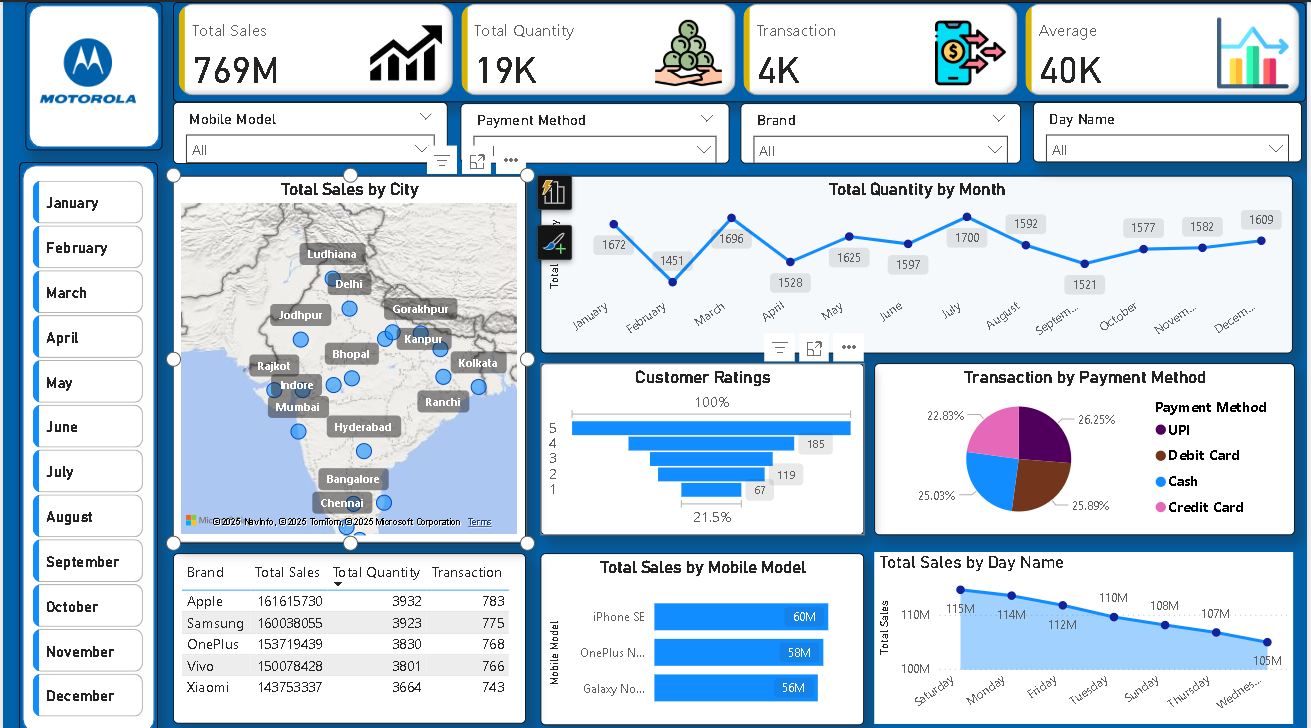

This screenshot's page, from the dashboard's own definition file:
{"tool":"powerbi","page":{"name":"Page 1","canvas":[1280,720],"ordinal":0},"visuals":[{"type":"image","box":[0,0,203.4,145.7],"z":0},{"type":"shape","box":[21.6,0,134.2,145.7],"z":1000},{"type":"image","box":[0,0,167.4,135.6],"z":2000},{"type":"shape","box":[15.9,157.3,135.6,562.7],"z":3000},{"type":"advancedSlicerVisual","fields":{"Values":["Sales_data.Date.Variation.Date Hierarchy.Month"]},"box":[24.5,158.3,117.8,537.4],"z":4000},{"type":"cardVisual","fields":{"Data":["Sales_data.Total Sales","Sales_data.Total Quantity","Sales_data.Transaction","Sales_data.Average"]},"box":[167.4,0,1112.4,98.1],"z":5000},{"type":"map","fields":{"Category":["Sales_data.City"]},"box":[167.4,170.2,346.3,360.7],"z":6000},{"type":"lineChart","fields":{"Category":["Sales_data.Date.Variation.Date Hierarchy.Month"],"Y":["Sales_data.Total Quantity"]},"box":[527.6,170.6,738.7,174.2],"z":7000},{"type":"clusteredBarChart","fields":{"Category":["Sales_data.Mobile Model"],"Y":["Sales_data.Total Sales"]},"box":[528.1,541,317.4,168.8],"z":8000},{"type":"pieChart","fields":{"Y":["Sales_data.Transaction"],"Category":["Sales_data.Payment Method"]},"box":[855.6,354.9,412.6,168.8],"z":9000},{"type":"funnel","title":"Customer Ratings ","fields":{"Category":["Sales_data.Customer Ratings"],"Y":["CountNonNull(Sales_data.Customer Ratings)"]},"box":[528.1,354.9,317.4,168.8],"z":10000},{"type":"areaChart","fields":{"Y":["Sales_data.Total Sales"],"Category":["Sales_data.Day Name"]},"box":[855.6,539.6,411.2,168.8],"z":11000},{"type":"tableEx","fields":{"Values":["Sales_data.Brand","Sales_data.Total Sales","Sales_data.Total Quantity","Sales_data.Transaction"]},"box":[167.4,541,346.3,167.4],"z":12000},{"type":"slicer","fields":{"Values":["Sales_data.Mobile Model"]},"box":[167.4,98.1,269.8,60.6],"z":13000},{"type":"slicer","fields":{"Values":["Sales_data.Payment Method"]},"box":[448.7,99.6,264,59.2],"z":14000},{"type":"slicer","fields":{"Values":["Sales_data.Brand"]},"box":[724.3,99.6,275.6,59.2],"z":15000},{"type":"slicer","fields":{"Values":["Sales_data.Day Name"]},"box":[1011.4,98.1,264,59.2],"z":16000}]}

Visuals, with their boxes in screenshot pixels (x1, y1, x2, y2), scaled from the page's 1280x720 canvas onto the 1311x728 screenshot:
image: (x1=0, y1=0, x2=208, y2=147)
shape: (x1=22, y1=0, x2=160, y2=147)
image: (x1=0, y1=0, x2=171, y2=137)
shape: (x1=16, y1=159, x2=155, y2=727)
advancedSlicerVisual - Sales_data.Date.Variation.Date Hierarchy.Month: (x1=25, y1=160, x2=146, y2=703)
cardVisual - Sales_data.Total Sales x Sales_data.Total Quantity: (x1=171, y1=0, x2=1310, y2=99)
map - Sales_data.City: (x1=171, y1=172, x2=526, y2=537)
lineChart - Sales_data.Date.Variation.Date Hierarchy.Month x Sales_data.Total Quantity: (x1=540, y1=172, x2=1297, y2=349)
clusteredBarChart - Sales_data.Mobile Model x Sales_data.Total Sales: (x1=541, y1=547, x2=866, y2=718)
pieChart - Sales_data.Transaction x Sales_data.Payment Method: (x1=876, y1=359, x2=1299, y2=530)
"Customer Ratings " funnel: (x1=541, y1=359, x2=866, y2=530)
areaChart - Sales_data.Total Sales x Sales_data.Day Name: (x1=876, y1=546, x2=1297, y2=716)
tableEx - Sales_data.Brand x Sales_data.Total Sales: (x1=171, y1=547, x2=526, y2=716)
slicer - Sales_data.Mobile Model: (x1=171, y1=99, x2=448, y2=160)
slicer - Sales_data.Payment Method: (x1=460, y1=101, x2=730, y2=161)
slicer - Sales_data.Brand: (x1=742, y1=101, x2=1024, y2=161)
slicer - Sales_data.Day Name: (x1=1036, y1=99, x2=1306, y2=159)
